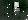person: (15, 4, 21, 15)
